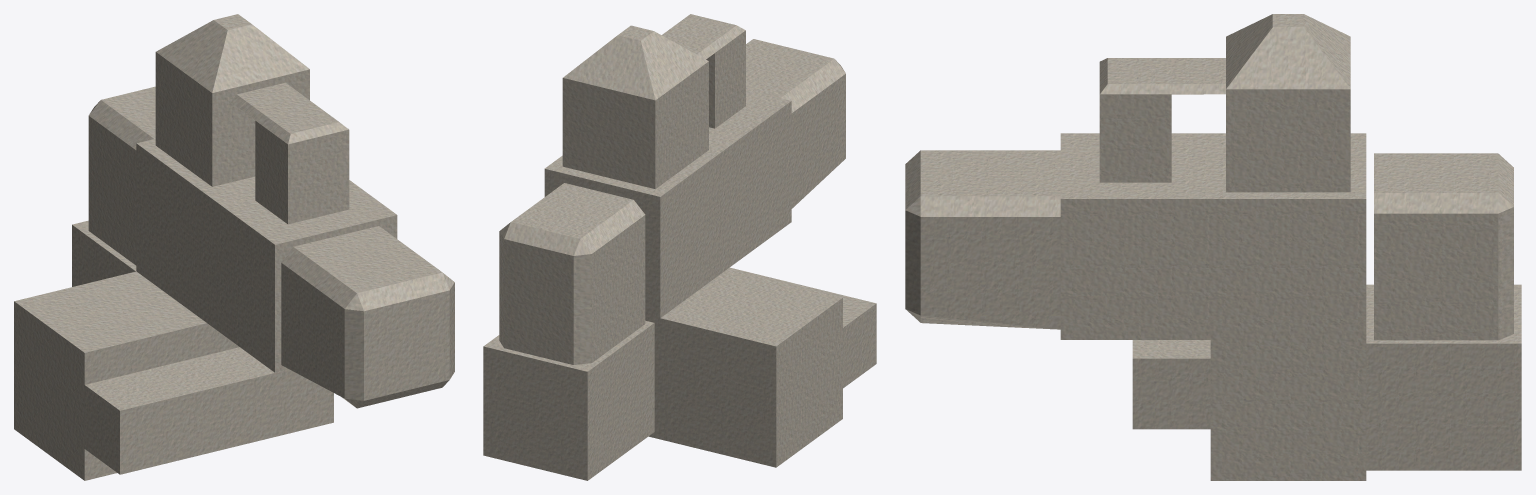
File: weird box.fbx
3 renders of one model, left to right at view 1: azimuth 30°, elevation 25°; view 2: azimuth 150°, elevation 25°; view 3: azimuth 270°, elevation 25°, orthographic. The views are drawn at different scales.
Parts seen in each view (by area): view 1: Cube.001, Cube.008, Cube.006, Cube.003, Cube.002, Cube.007, Cube.005; view 2: Cube.001, Cube.003, Cube.002, Cube.006, Cube.005, Cube.008, Cube.007; view 3: Cube.003, Cube.005, Cube.006, Cube.008, Cube.002, Cube.001, Cube.007.
Boxes of the visible parts, x1,y1,x2,y2 form: Cube.001: (14, 271, 333, 480); Cube.008: (275, 215, 454, 408); Cube.006: (155, 14, 349, 224); Cube.003: (136, 139, 396, 372); Cube.002: (88, 86, 155, 265); Cube.007: (231, 82, 348, 144); Cube.005: (72, 220, 239, 354); Cube.001: (660, 267, 876, 467); Cube.003: (544, 90, 791, 317); Cube.002: (499, 183, 645, 364); Cube.006: (562, 25, 745, 189); Cube.005: (483, 314, 660, 480); Cube.008: (746, 39, 845, 208); Cube.007: (662, 14, 745, 59); Cube.003: (1060, 133, 1366, 339); Cube.005: (1210, 284, 1521, 480); Cube.006: (1099, 14, 1350, 192); Cube.008: (905, 150, 1060, 329); Cube.002: (1374, 153, 1513, 340); Cube.001: (1132, 340, 1210, 429); Cube.007: (1099, 58, 1225, 94).
Bounding box in the file's own units: 400 × 606 × 793.
Materials: 1 (1 with a texture image).
